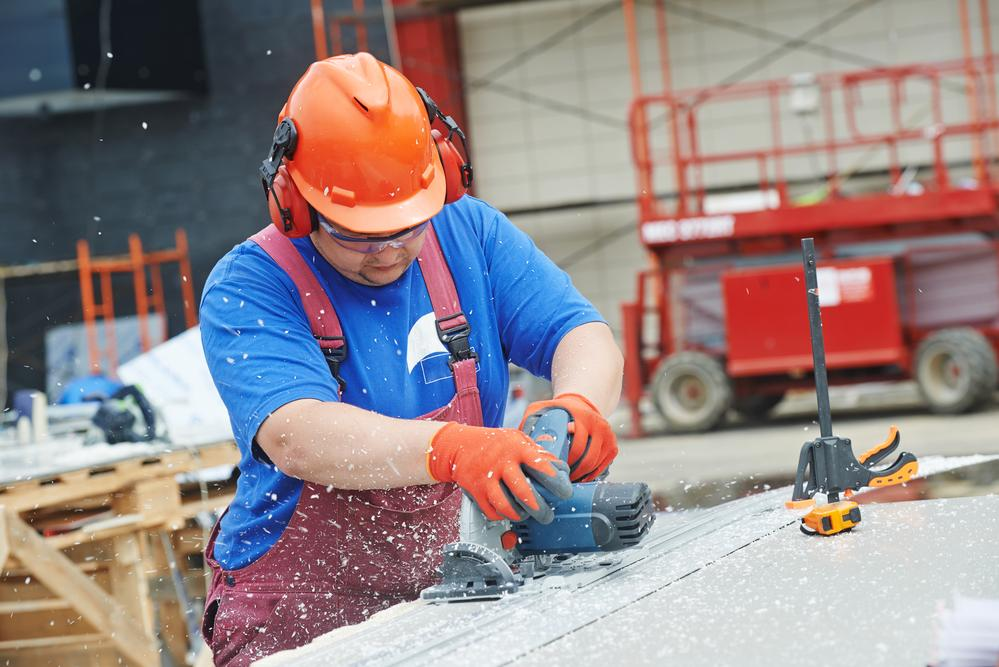helmet: (270, 54, 439, 230)
